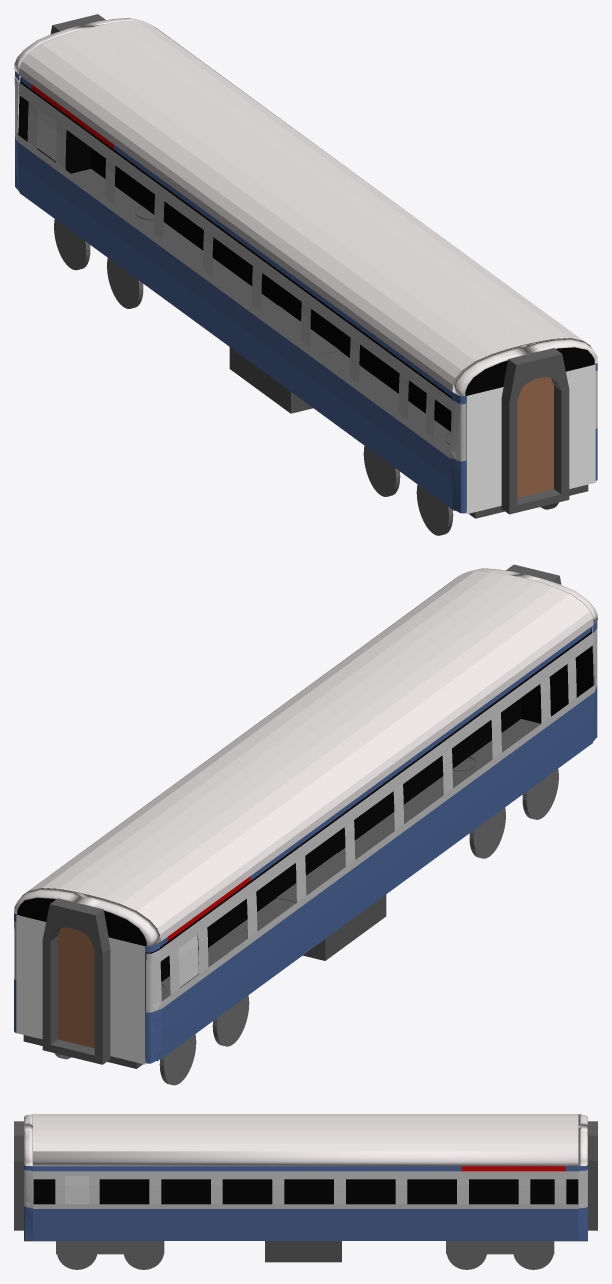
The model's file is br-mk2-tsot-bg.dae.
3 views of the same model, one above another, from view 1: azimuth 30°, elevation 25°; view 2: azimuth 150°, elevation 25°; view 3: azimuth 270°, elevation 25° (orthographic). The views are drawn at different scales.
Visible parts, largest first — view 1: Suzanne_001, Plane_031, Plane_100, Plane_009, Tube_002, Plane_088, Plane_002, Plane_119, Plane_029, Plane_030, Suzanne, Cube (+9 smaller); view 2: Suzanne_001, Plane_031, Plane_001, Plane_009, Tube_003, Plane_088, Plane_002, Plane_118, Plane_029, Plane_030, Suzanne_006, Cube (+9 smaller); view 3: Suzanne_001, Plane_007, Plane_009, Plane_004, Plane_006, Plane_005, Plane_022, Cube, Cube_042, Cube_002, Tube_003, Tube_002 (+19 smaller).
Part boxes in pixels (x1,y1,x2,y2): Suzanne_001: (19, 21, 590, 391); Plane_031: (18, 149, 452, 509); Plane_100: (466, 364, 595, 513); Plane_009: (90, 132, 451, 431); Tube_002: (501, 348, 569, 514); Plane_088: (19, 82, 451, 410); Plane_002: (71, 169, 450, 450); Plane_119: (505, 377, 553, 497); Plane_029: (17, 135, 450, 458); Plane_030: (17, 142, 450, 465); Suzanne: (452, 338, 597, 396); Cube: (229, 305, 339, 413); Suzanne_001: (22, 571, 593, 941); Plane_031: (159, 699, 594, 1059); Plane_001: (16, 915, 145, 1064); Plane_009: (158, 683, 521, 981); Tube_003: (42, 898, 110, 1064); Plane_088: (160, 633, 593, 961); Plane_002: (159, 719, 540, 1057); Plane_118: (58, 927, 94, 1048); Plane_029: (161, 685, 594, 1008); Plane_030: (161, 692, 594, 1015); Suzanne_006: (14, 888, 160, 946); Cube: (276, 852, 386, 960); Suzanne_001: (33, 1114, 578, 1166); Plane_007: (33, 1213, 578, 1240); Plane_009: (33, 1179, 580, 1208); Plane_004: (33, 1171, 578, 1179); Plane_006: (33, 1166, 578, 1171); Plane_005: (33, 1209, 578, 1213); Plane_022: (33, 1204, 578, 1208); Cube: (265, 1241, 341, 1262); Cube_042: (56, 1241, 164, 1254); Cube_002: (446, 1241, 554, 1254); Tube_003: (587, 1121, 597, 1230); Tube_002: (14, 1121, 24, 1230).
Bounding box in the file's own units: 2.06 × 11.39 × 2.72.
